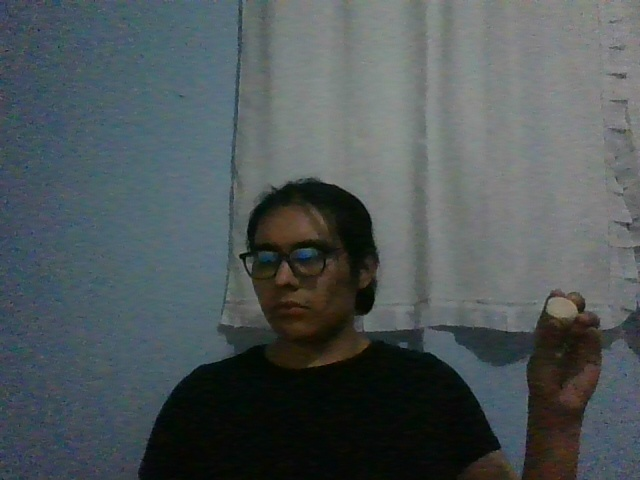goma: (546, 297, 578, 328)
